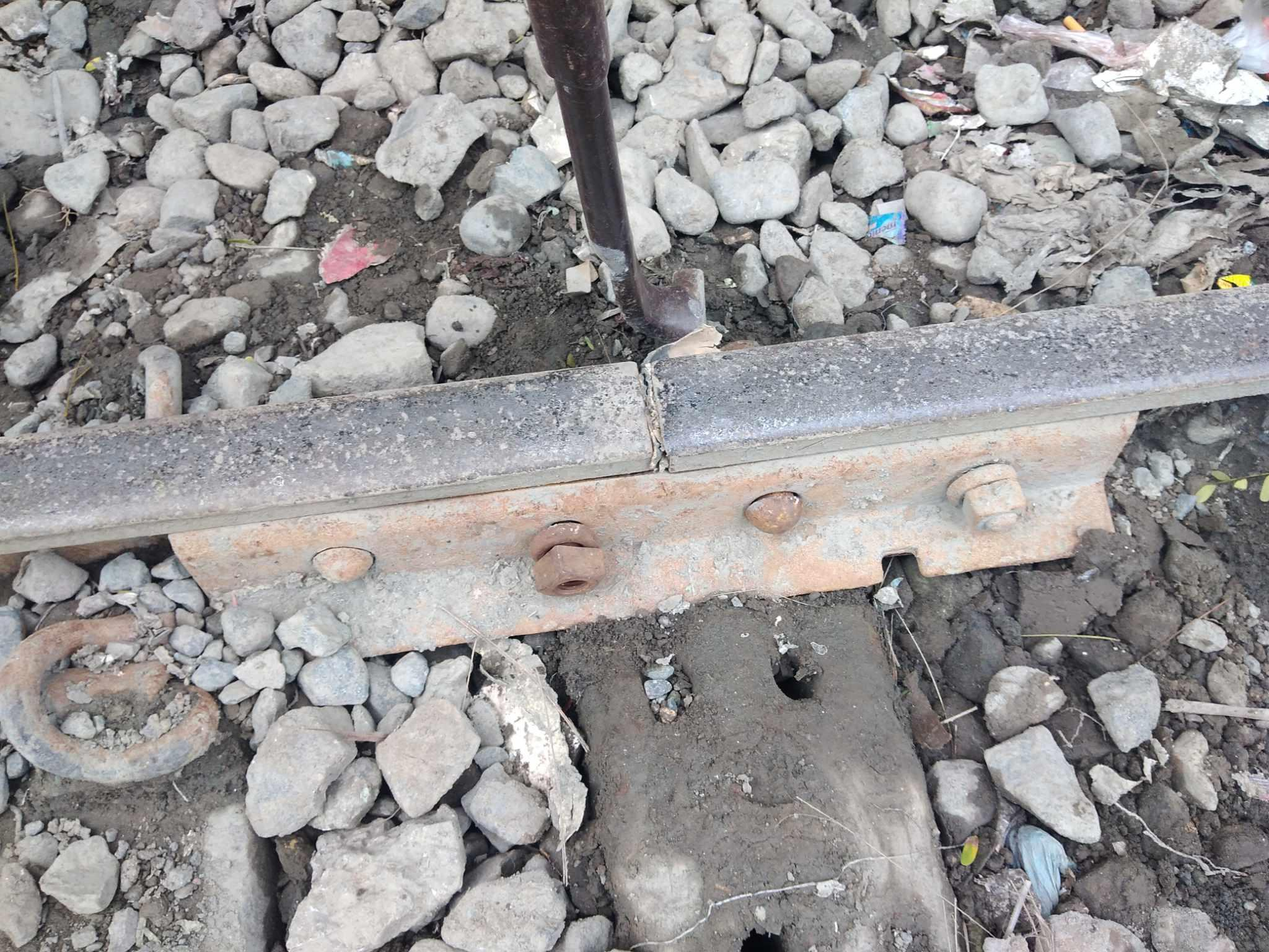railway-gap: (551, 316, 755, 508)
